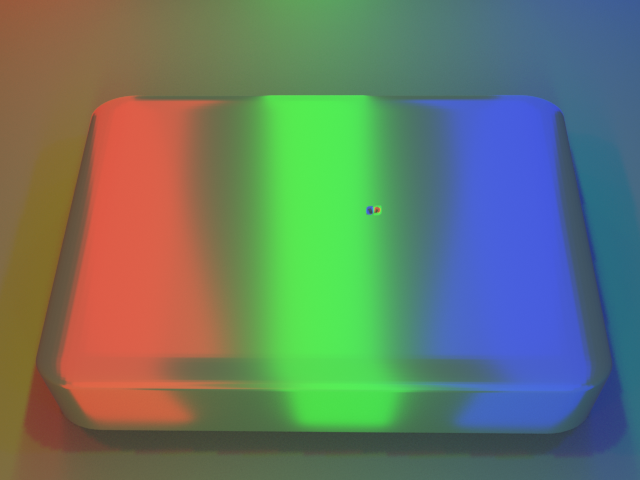dent: (359, 193, 396, 233)
